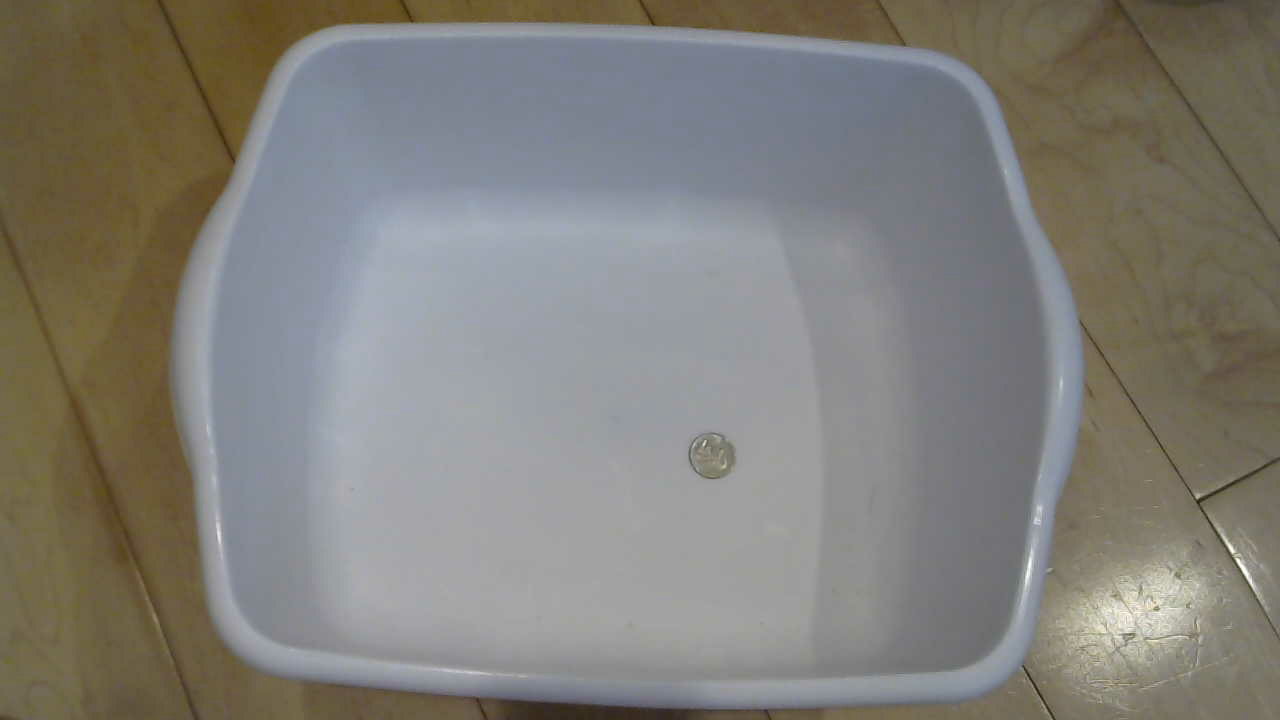coin: (684, 431, 748, 490)
